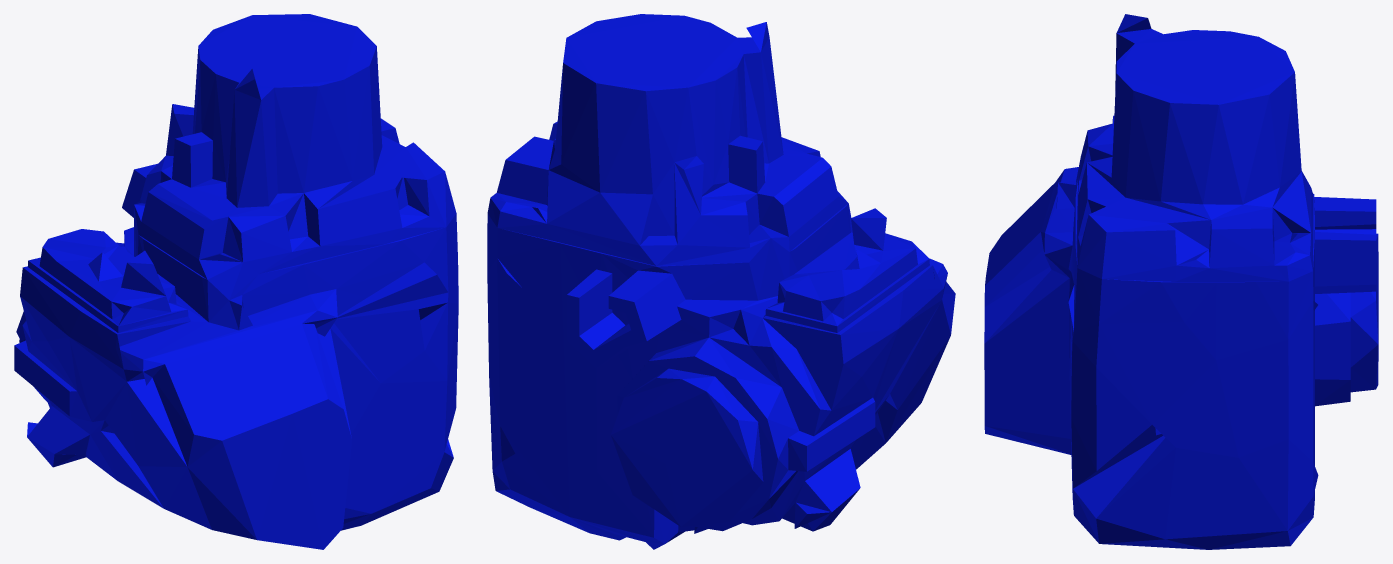
Rendered from ABBIRB2600Link3.dae.
The picture shows the model from 3 angles, left to right: view 1: azimuth 30°, elevation 25°; view 2: azimuth 150°, elevation 25°; view 3: azimuth 270°, elevation 25°; orthographic projection. The views are drawn at different scales.
Visible parts, largest first — view 1: link3; view 2: link3; view 3: link3.
Boxes of the visible parts, x1,y1,x2,y2 form: link3: (14, 14, 458, 549); link3: (487, 14, 955, 549); link3: (984, 14, 1378, 549).
Bounding box in the file's own units: 0.3517 × 0.3407 × 0.4443.
